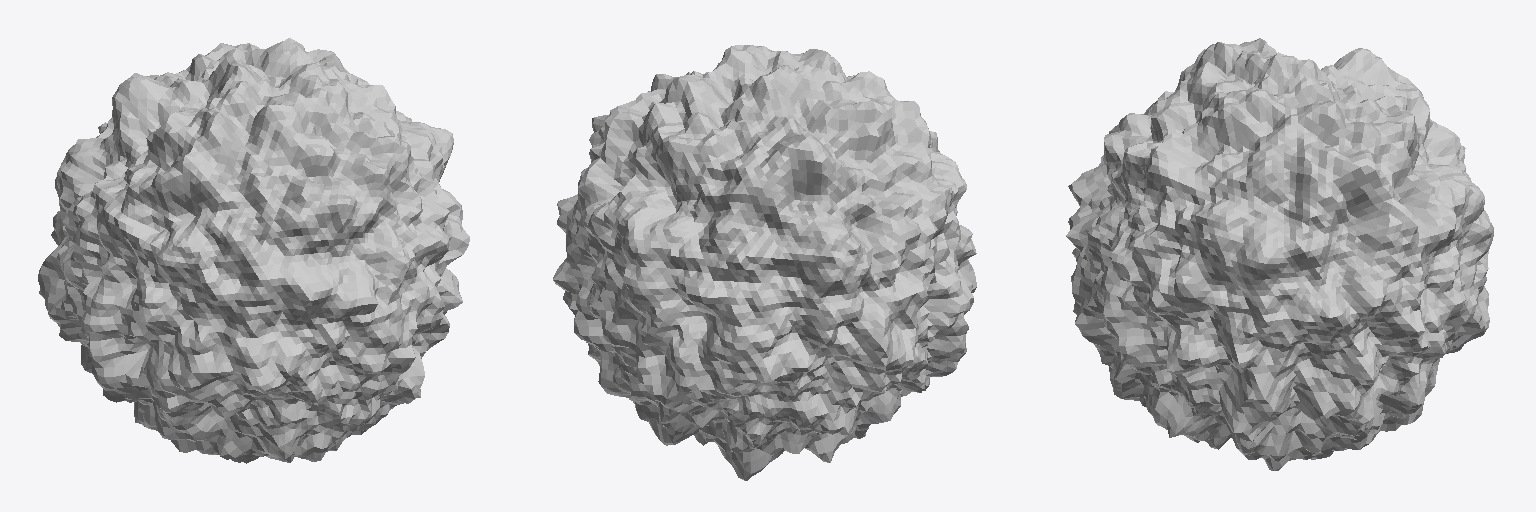
File: orbs.obj
The picture shows the model from 3 angles: view 1: azimuth 30°, elevation 25°; view 2: azimuth 150°, elevation 25°; view 3: azimuth 270°, elevation 25°; orthographic projection.
Visible parts, largest first — view 1: MAIN.001; view 2: MAIN.001; view 3: MAIN.001.
Part boxes in pixels (bbox=[...]): MAIN.001: bbox=[38, 38, 469, 463]; MAIN.001: bbox=[553, 45, 976, 480]; MAIN.001: bbox=[1066, 38, 1493, 470].
Size of the model in its own units: 3.11 by 3.11 by 3.1.